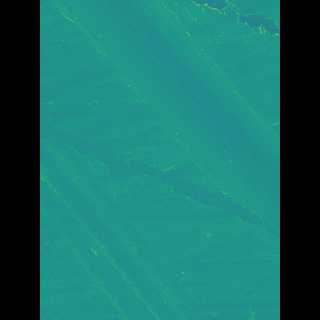Loch: (77, 0, 250, 237), (68, 127, 190, 320)
